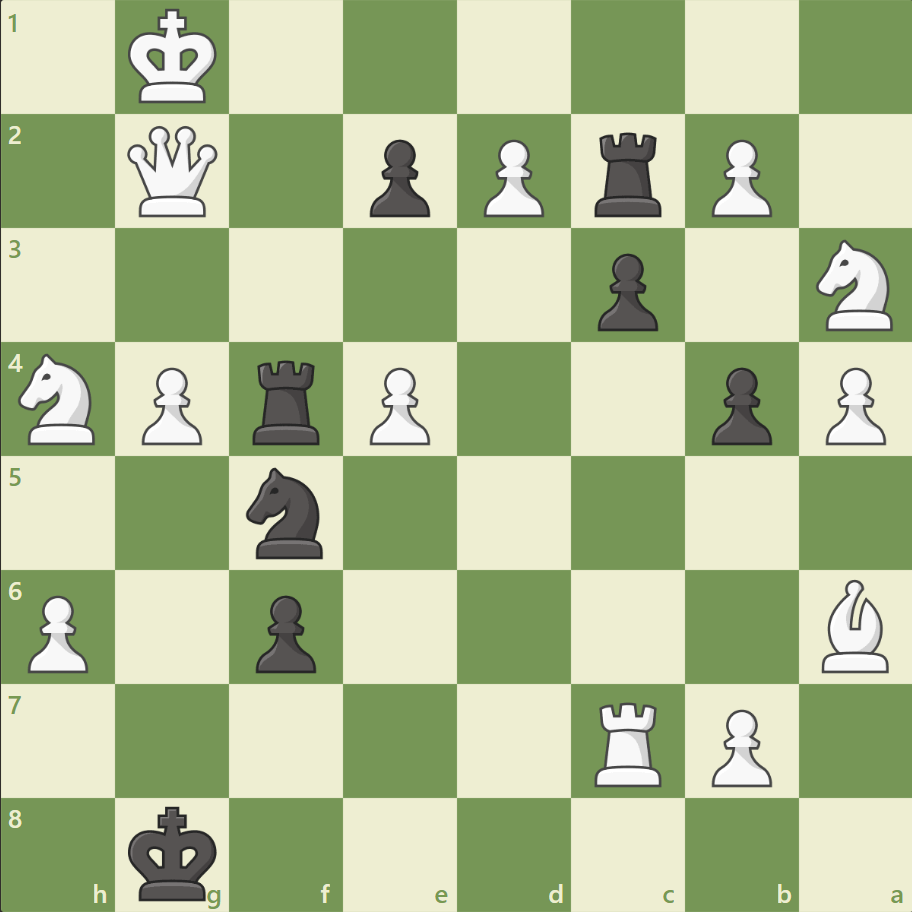B: (812, 574, 896, 676)
K: (124, 4, 224, 112)
N: (806, 234, 903, 337), (11, 348, 108, 450)
P: (701, 700, 776, 791), (20, 586, 95, 677), (133, 359, 208, 450), (701, 132, 776, 223), (474, 132, 549, 223), (815, 359, 889, 450), (361, 359, 435, 450)
Q: (124, 122, 223, 222)
R: (587, 693, 670, 790)
k: (124, 798, 224, 906)
n: (238, 461, 335, 564)
p: (247, 586, 322, 677), (701, 359, 776, 450), (588, 246, 662, 337), (361, 132, 435, 223)
r: (246, 352, 329, 449), (587, 125, 670, 222)
